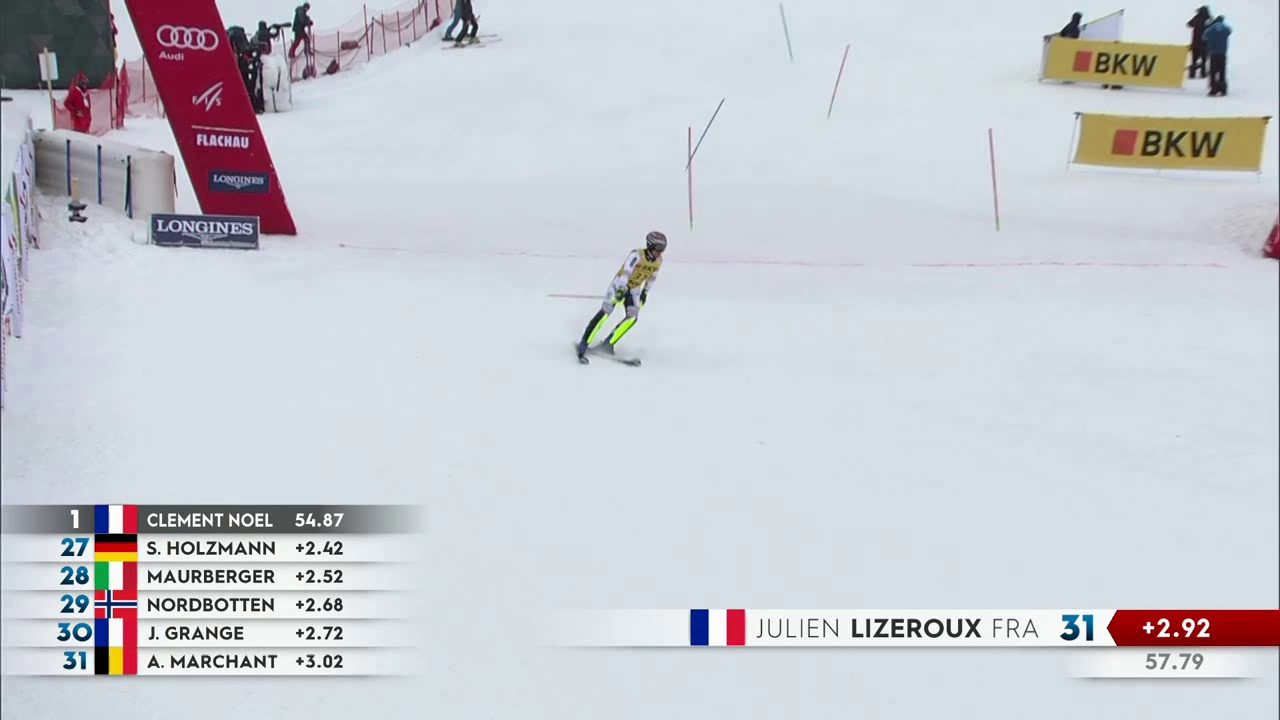audi: (155, 23, 224, 57)
longines: (151, 217, 260, 249)
